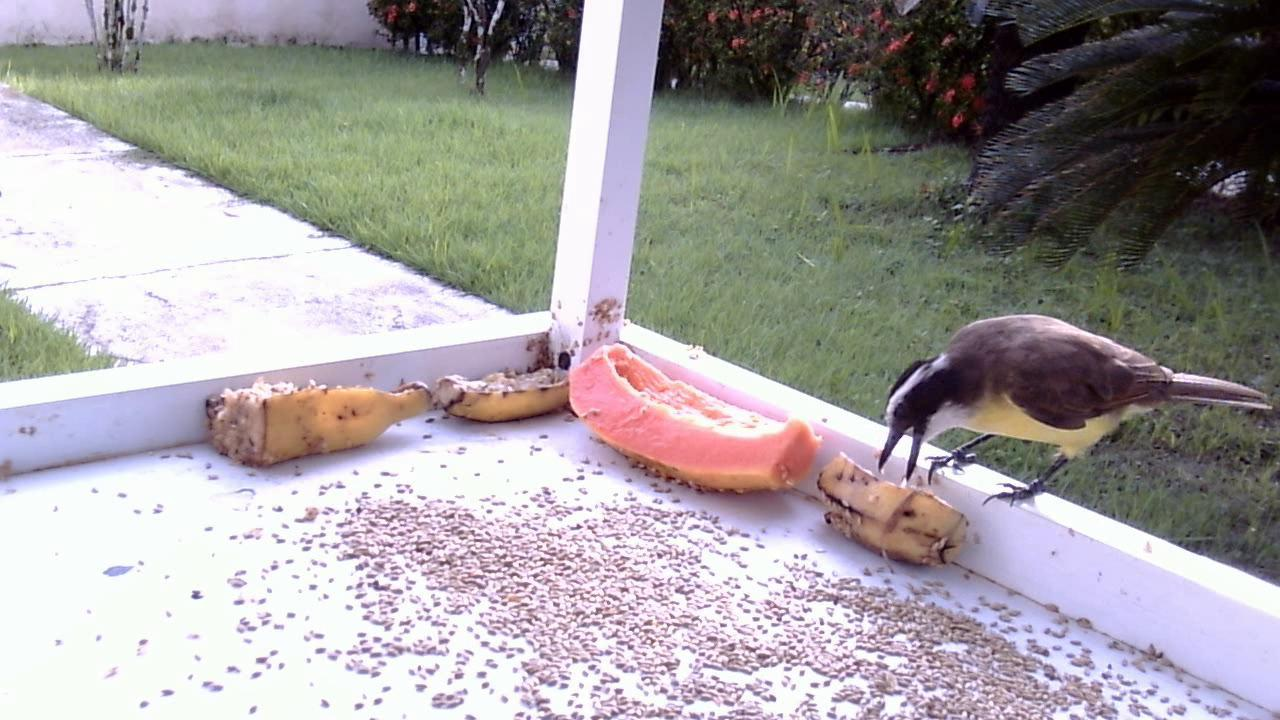bem_te_vi: (867, 307, 1268, 538)
